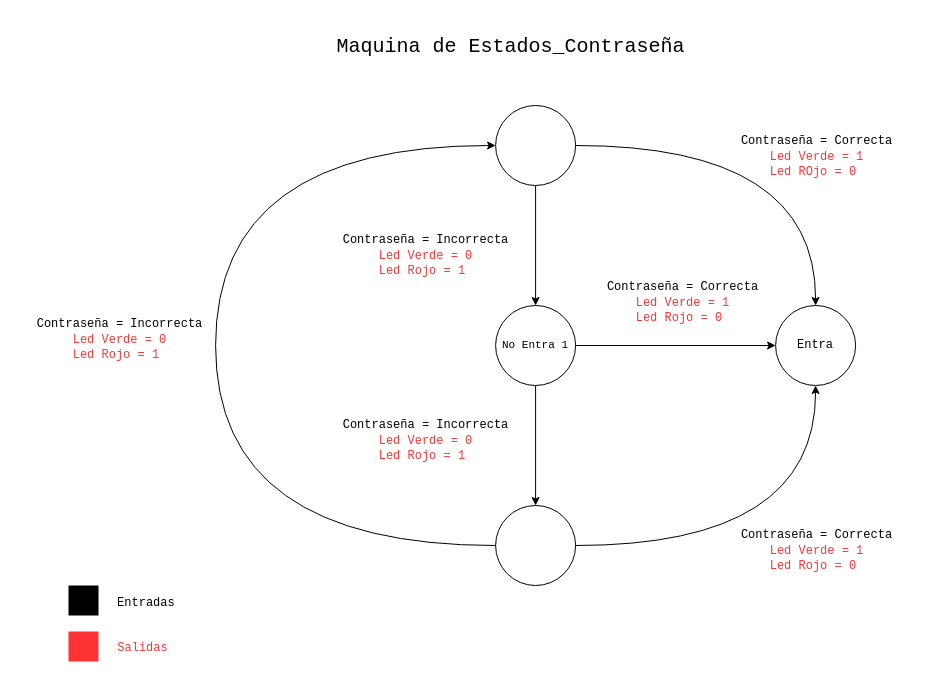
This 926x681 diagram has some shape labels left out. The shapes that lost their labels are listed below. From the top down, each one's centre as x and y in pixels, then its label:
At (x=535, y=145): "Inicial_c".
At (x=535, y=545): "No Entra 2".
